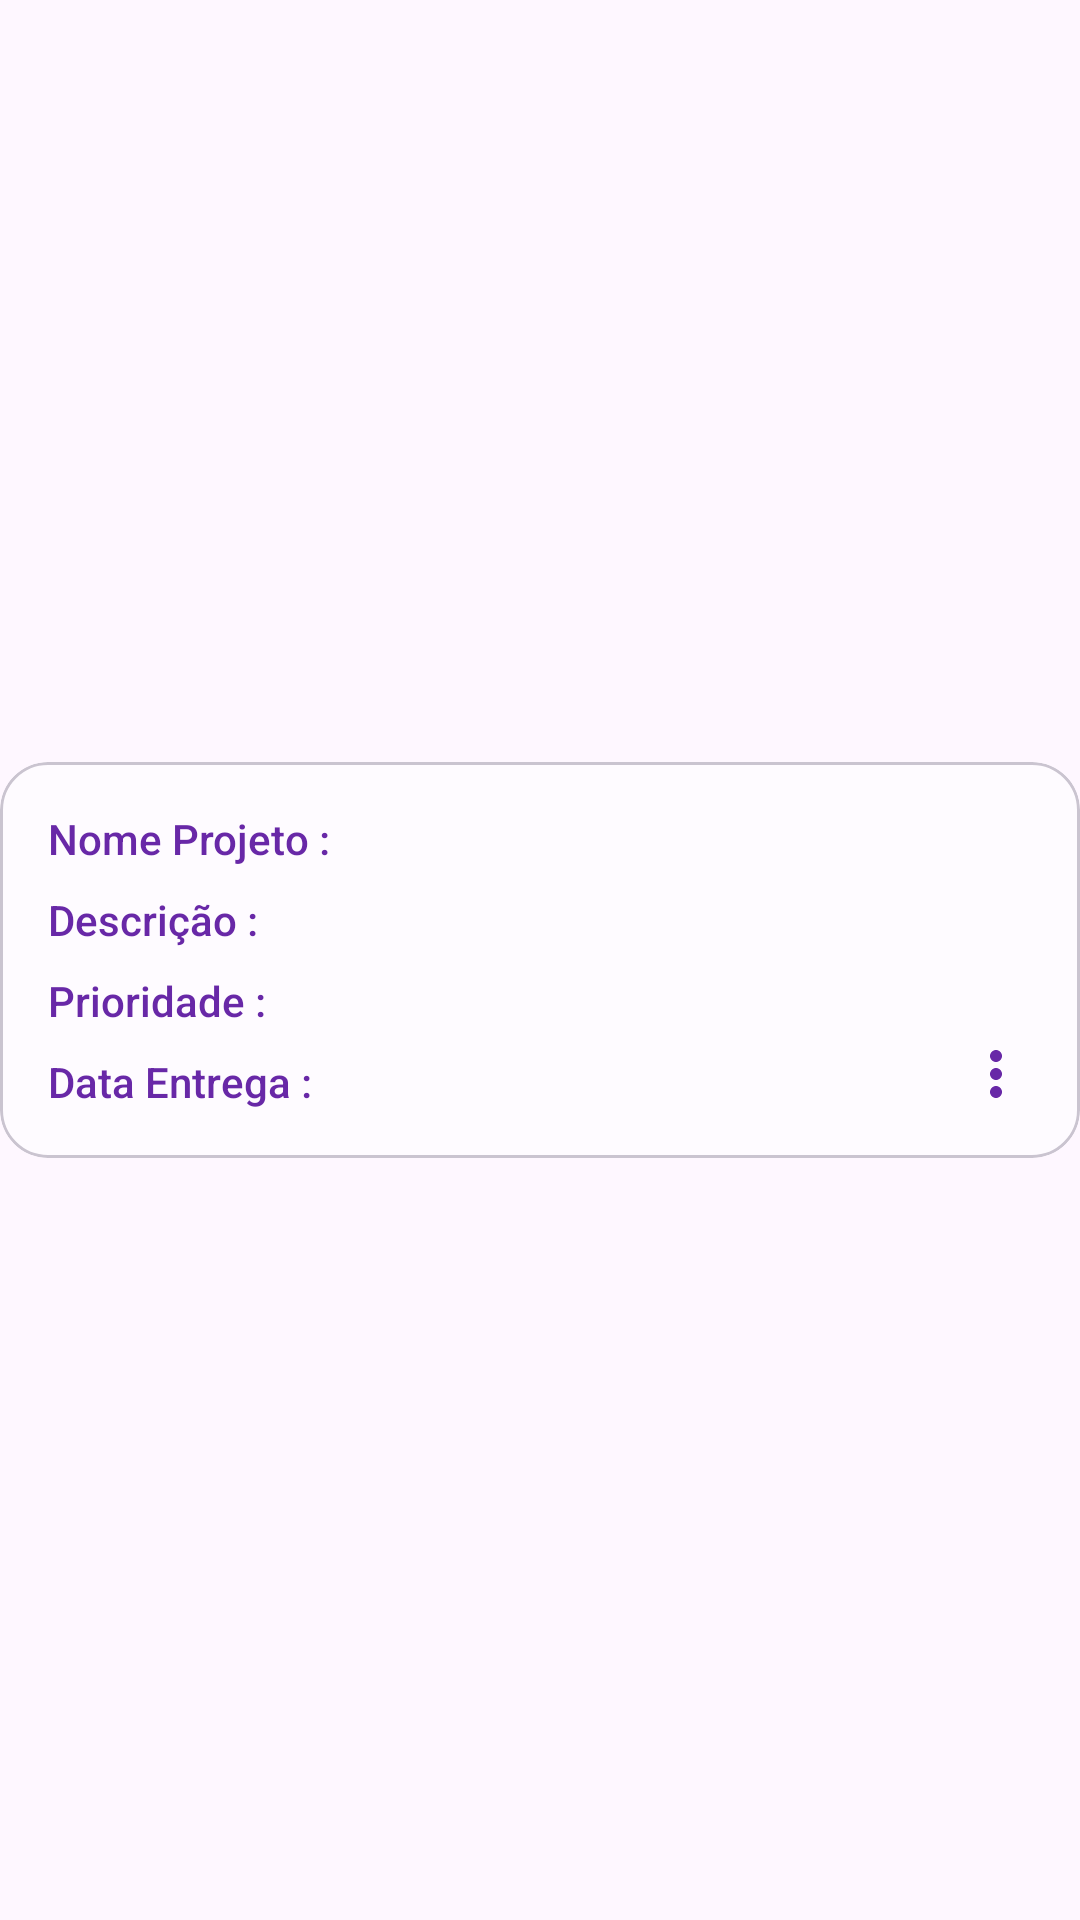

Point at icon controls on the screen. Image size 1080px x 1920px, points as (x=x, y=y).
more: (x=996, y=1074)
